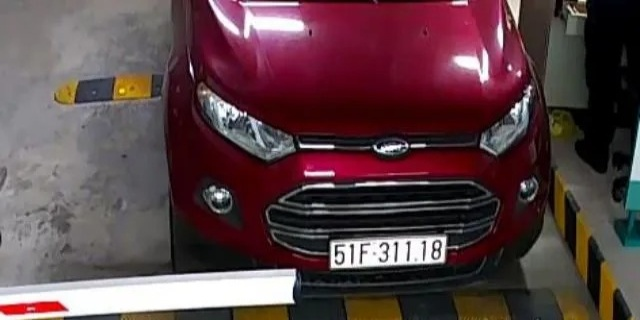bien_so: (329, 237, 445, 266)
